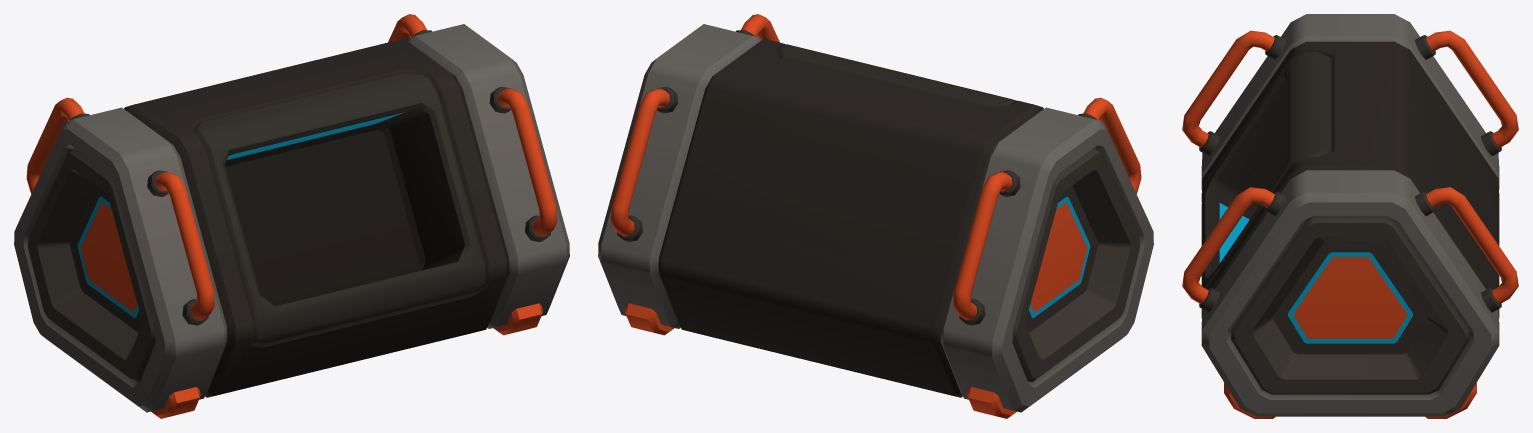
The model's file is Charging_Station_06.fbx.
The picture shows the model from 3 angles, left to right: view 1: azimuth 30°, elevation 25°; view 2: azimuth 150°, elevation 25°; view 3: azimuth 270°, elevation 25°; orthographic projection. The views are drawn at different scales.
Visible parts, largest first — view 1: Charging_Station_06; view 2: Charging_Station_06; view 3: Charging_Station_06.
Part boxes in pixels (left/top/right/bottom): Charging_Station_06: left=14, top=14, right=569, bottom=418; Charging_Station_06: left=598, top=14, right=1153, bottom=418; Charging_Station_06: left=1182, top=14, right=1518, bottom=418.
Bounding box in the file's own units: 30.09 × 17.62 × 23.16.
